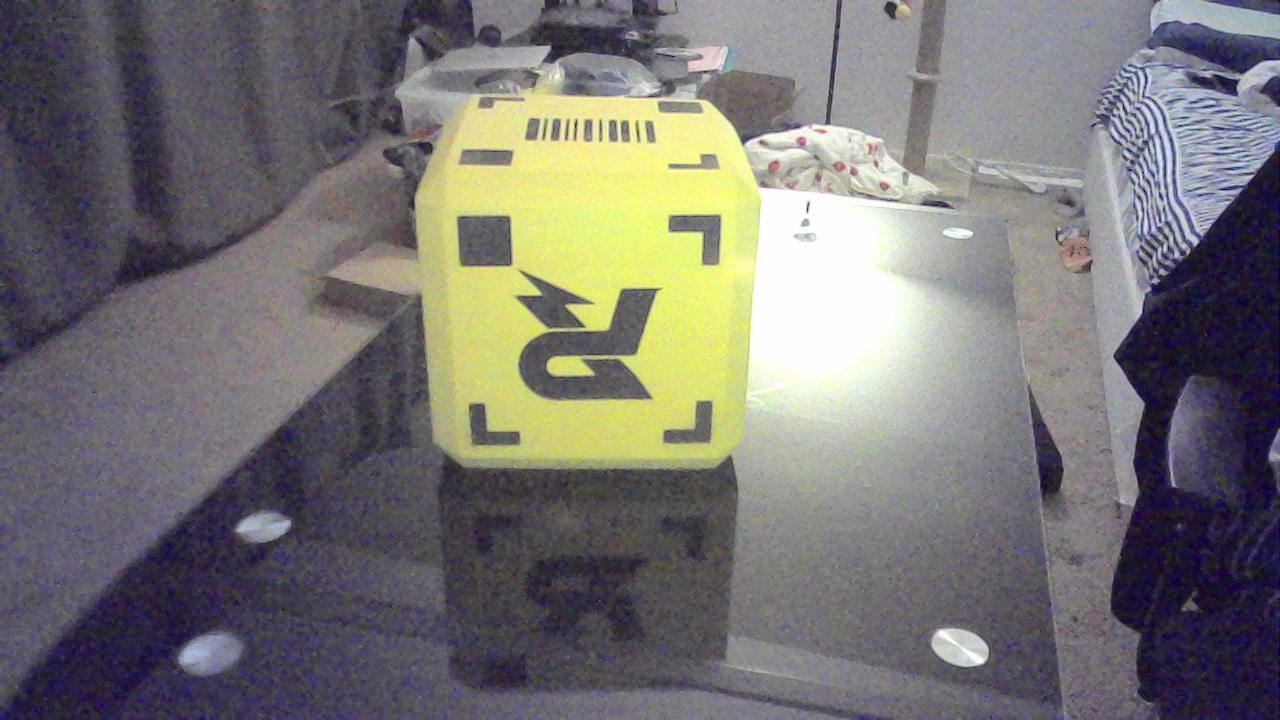Barcode: (527, 107, 672, 157)
R: (527, 271, 652, 403)
